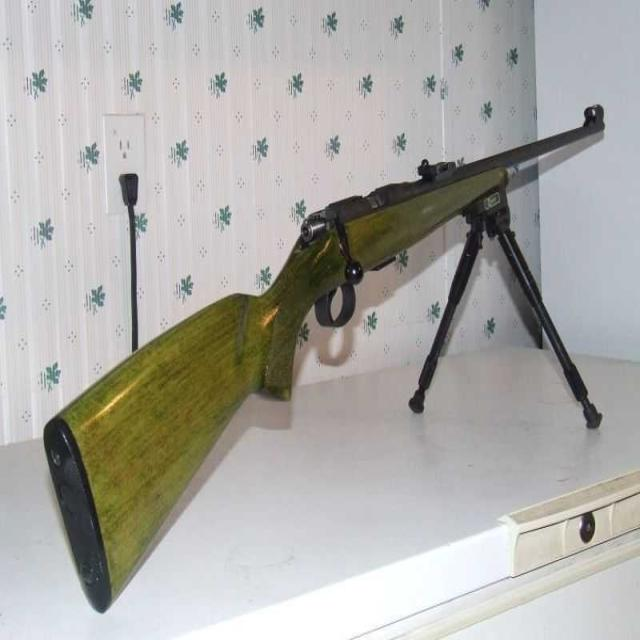heavyweapon: (37, 73, 624, 626)
